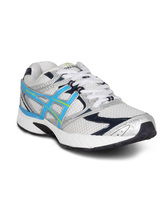shoes: (7, 58, 158, 156)
